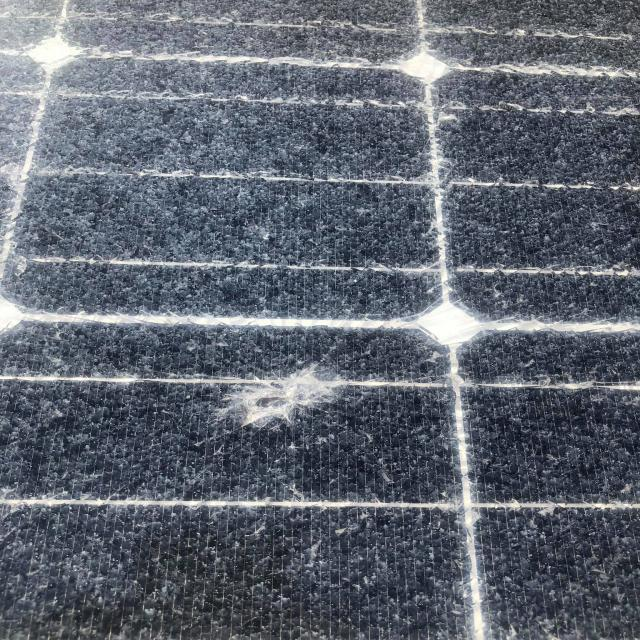dust-solar-panel: (2, 1, 638, 640)
